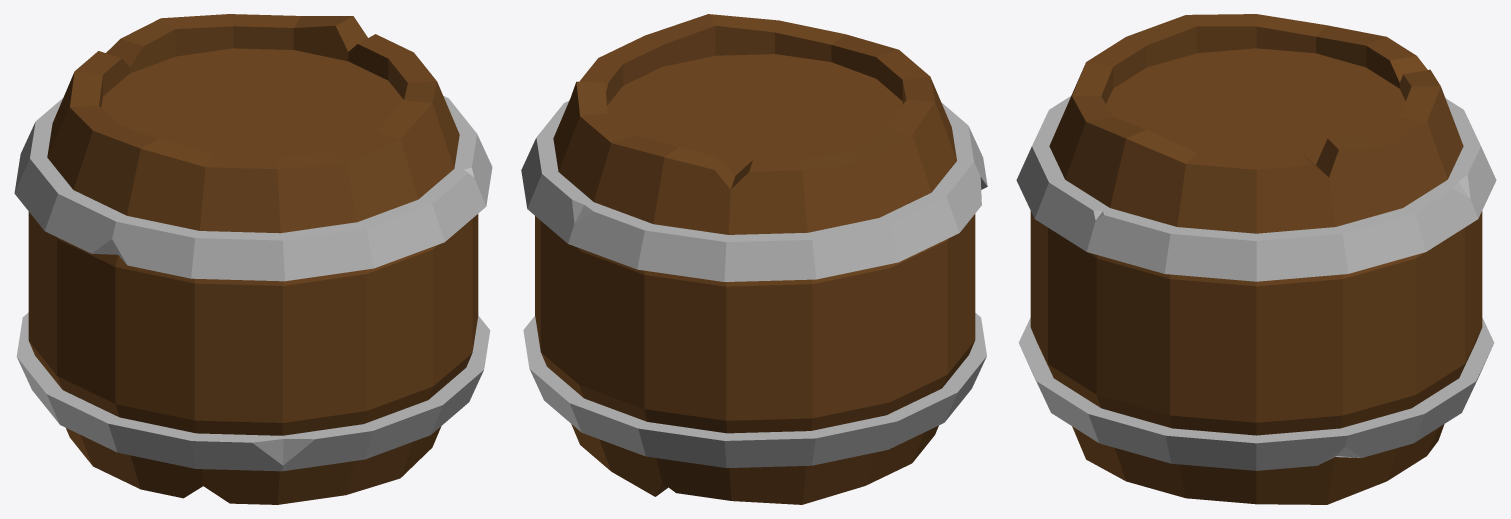
The model's file is LowPolyKeg3.glb.
The picture shows the model from 3 angles, left to right: view 1: azimuth 30°, elevation 25°; view 2: azimuth 150°, elevation 25°; view 3: azimuth 270°, elevation 25°; orthographic projection. The views are drawn at different scales.
Visible parts, largest first — view 1: Cylinder.001; view 2: Cylinder.001; view 3: Cylinder.001.
Boxes of the visible parts, x1,y1,x2,y2 form: Cylinder.001: (14, 14, 492, 504); Cylinder.001: (521, 14, 987, 504); Cylinder.001: (1016, 14, 1496, 504).
Size of the model in its own units: 260 by 212 by 260.
